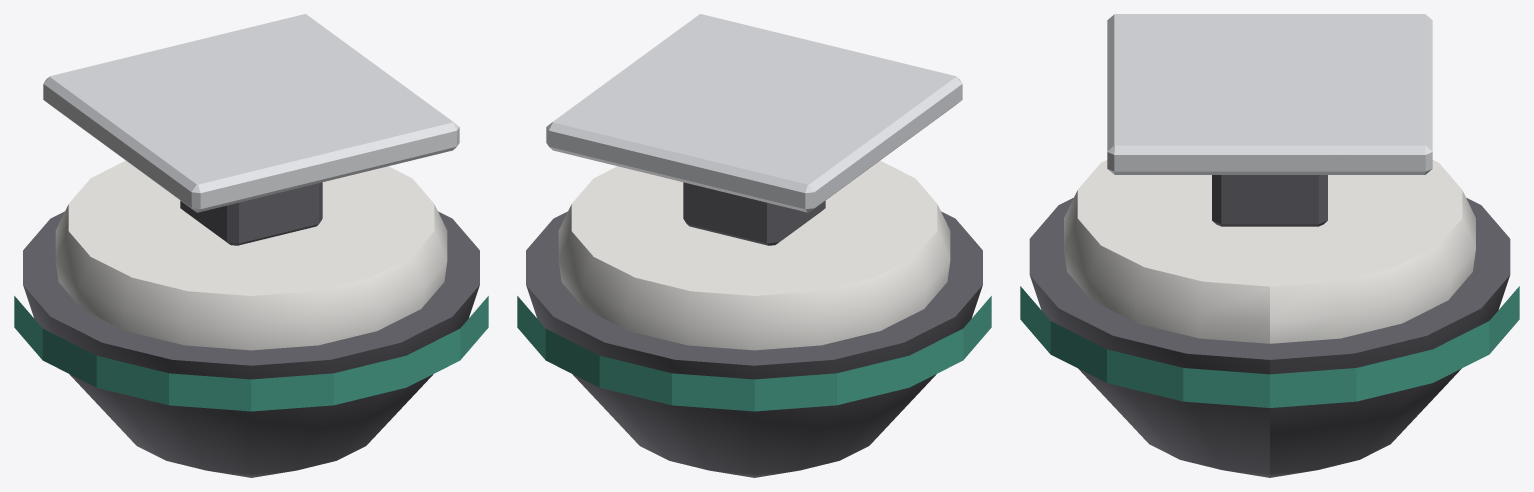
File: petrol-station-and-forecourt-shop-cctv-dome-57449d14.glb
The picture shows the model from 3 angles, left to right: view 1: azimuth 30°, elevation 25°; view 2: azimuth 150°, elevation 25°; view 3: azimuth 270°, elevation 25°; orthographic projection. The views are drawn at different scales.
Visible parts, largest first — view 1: cctv-dome; view 2: cctv-dome; view 3: cctv-dome.
Part boxes in pixels (x1,y1,x2,y2): cctv-dome: (14, 14, 488, 477); cctv-dome: (517, 14, 991, 477); cctv-dome: (1020, 14, 1519, 477).
Bounding box in the file's own units: 0.218 × 0.189 × 0.2147.
